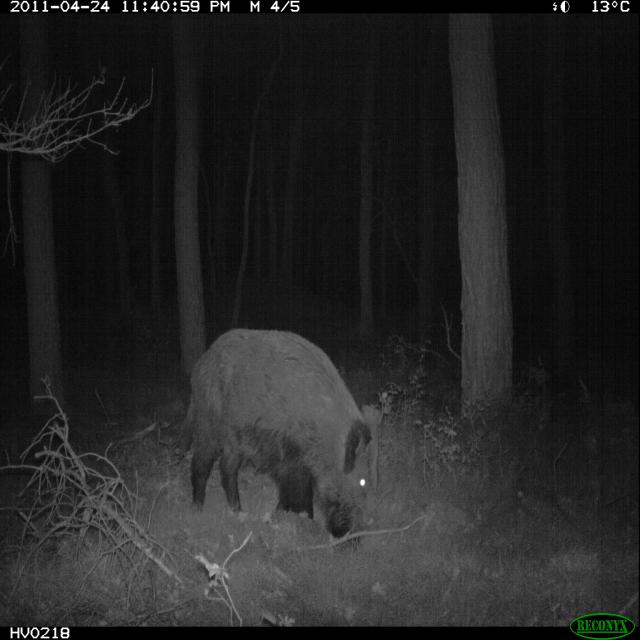boar: (162, 314, 386, 552)
